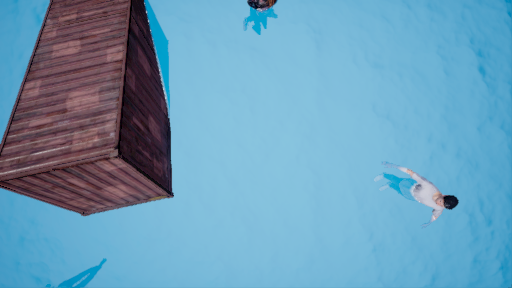person: (371, 159, 460, 227)
